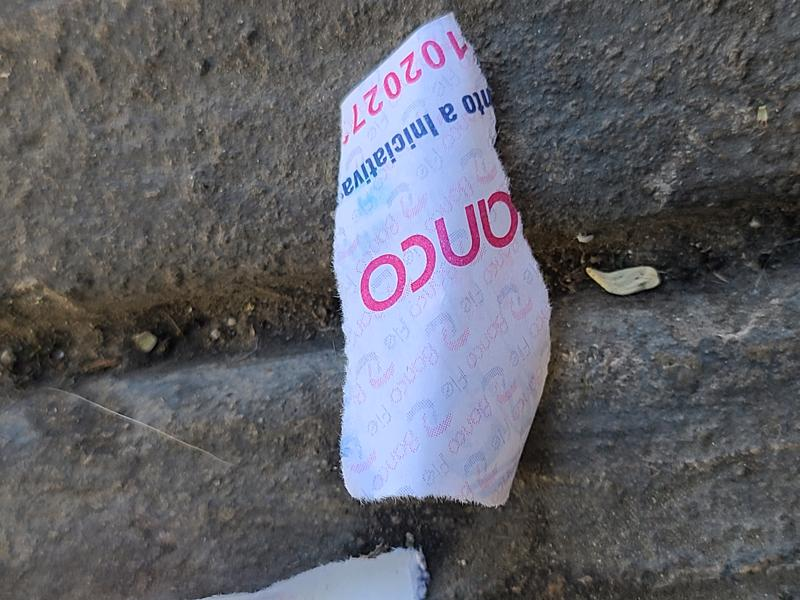papel: (330, 13, 552, 510)
